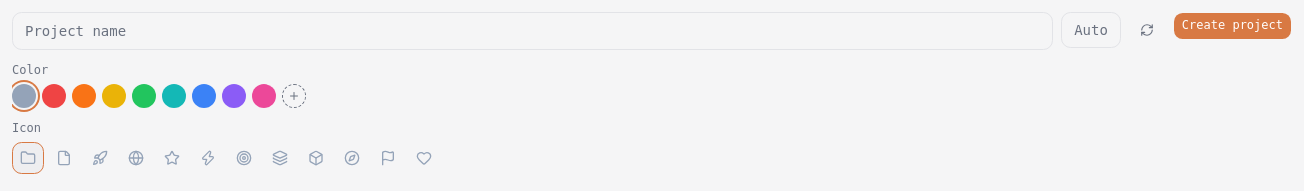
Test: create project form › a hand-edited key stops auto-generation until regenerated
The image size is (1304, 191).
In the field labelled "Project name": (533, 31) [12,12,1053,50], type "Website"
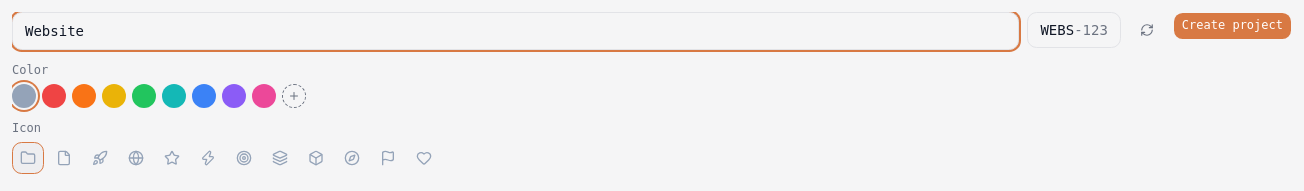
Clear the field named "project key": (1057, 30) [1040,20,1074,40]
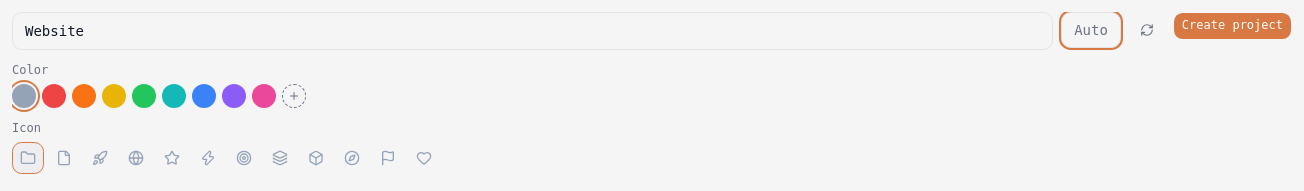
In the field named "project key": (1091, 30) [1074,20,1108,40], type "ABC"
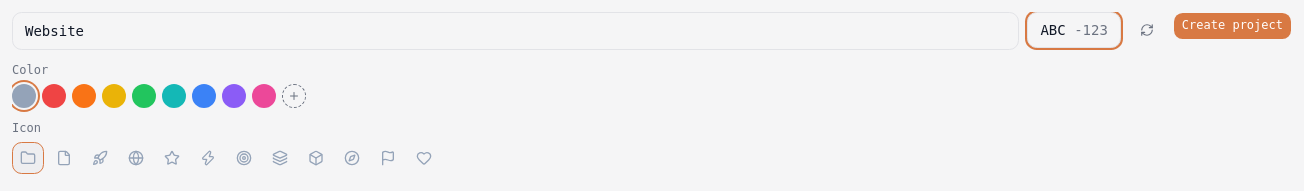
In the field named "Project name": (516, 31) [12,12,1019,50], type " X"
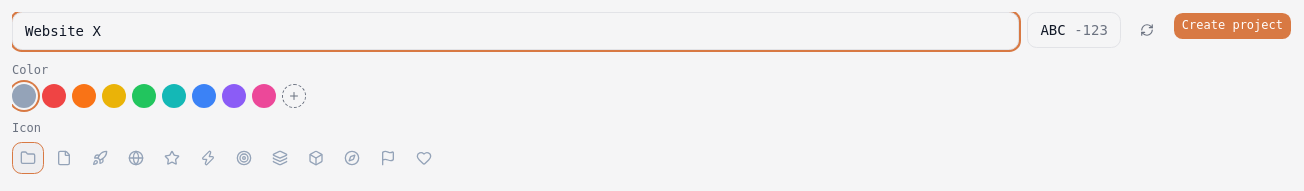
Click the button named "regenerate key from name": (1147, 30) [1129,12,1165,48]
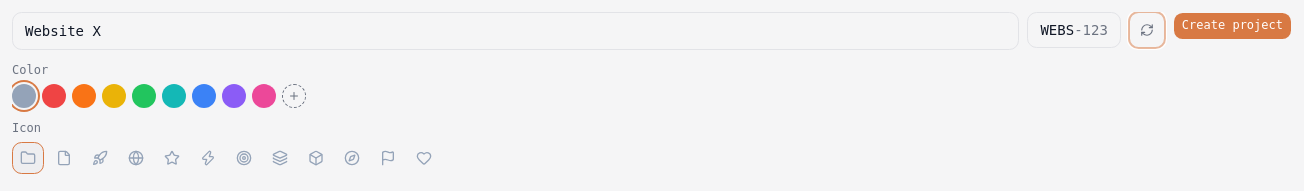
Expected: the text with test id "key-suffix" reads "-123", [1074,22,1108,38]
Expected: the field named "project key" holds "WEBS", [1040,20,1074,40]
